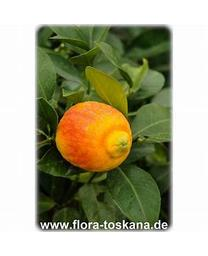lemon: (56, 101, 133, 173)
